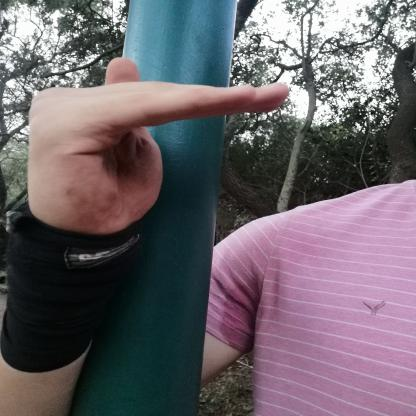KHAA: (8, 48, 310, 247)
